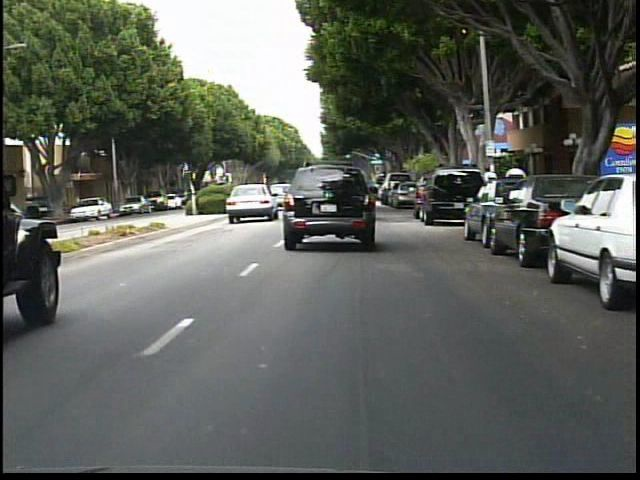person: (502, 158, 527, 216), (478, 163, 500, 210), (70, 190, 88, 221)
